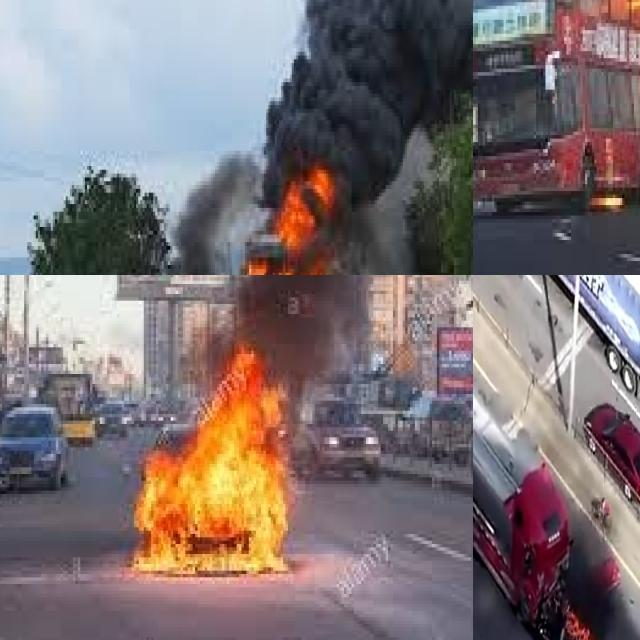fire: (129, 341, 298, 594), (223, 166, 372, 275), (583, 156, 629, 223), (564, 605, 602, 640)
smoke: (257, 0, 473, 200), (192, 275, 353, 377), (168, 150, 251, 275), (351, 204, 411, 275)
